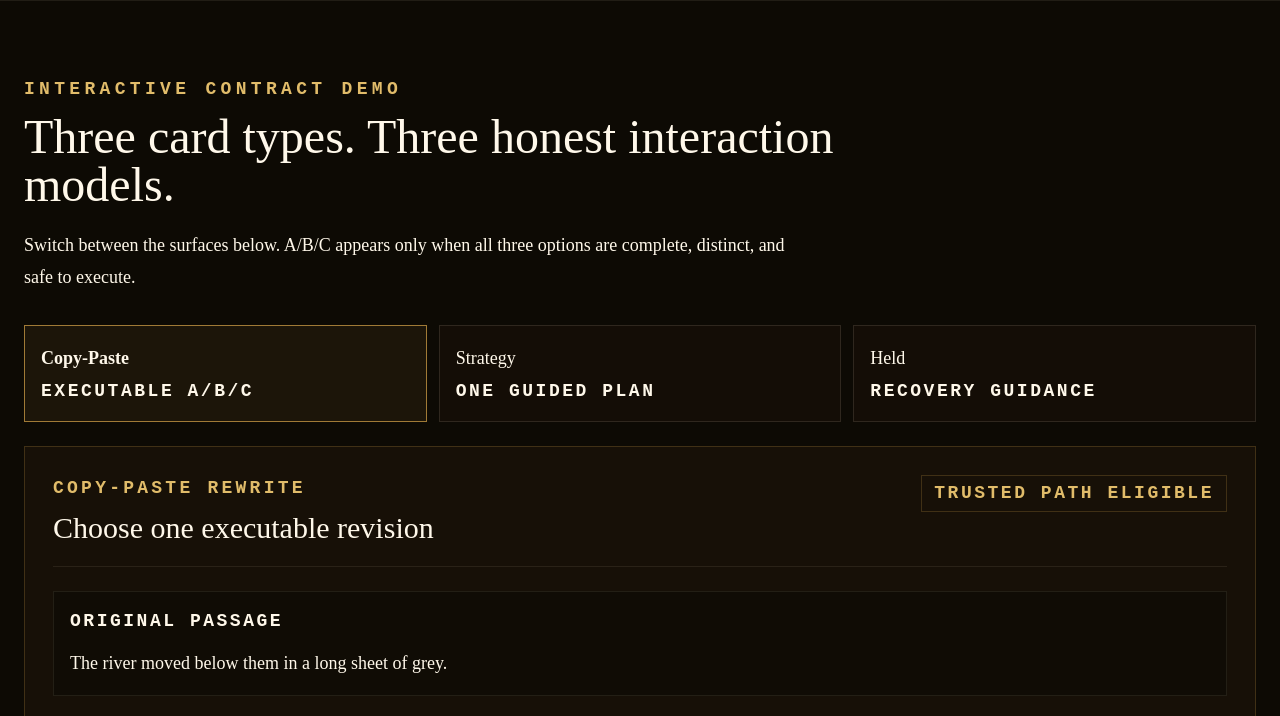
Scenario: ReviseQueueDemo public contract › renders Held as recovery guidance with no generated candidate controls
Click the tab "Held Recovery guidance": (888, 358) [853,325,1256,422]
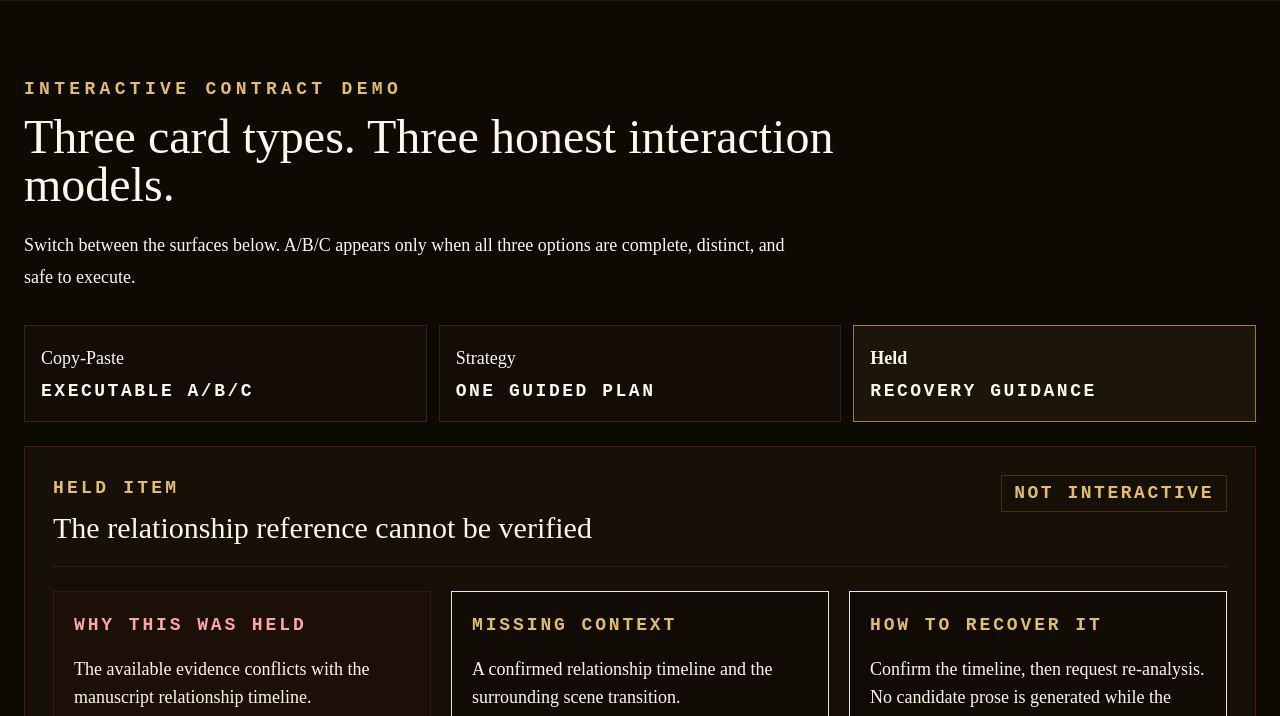
Check: the text "Why this was held" is shown, box [74,615,307,635]
Check: the text "Missing context" is shown, box [472,615,677,635]
Check: the text "How to recover it" is shown, box [870,615,1103,635]
